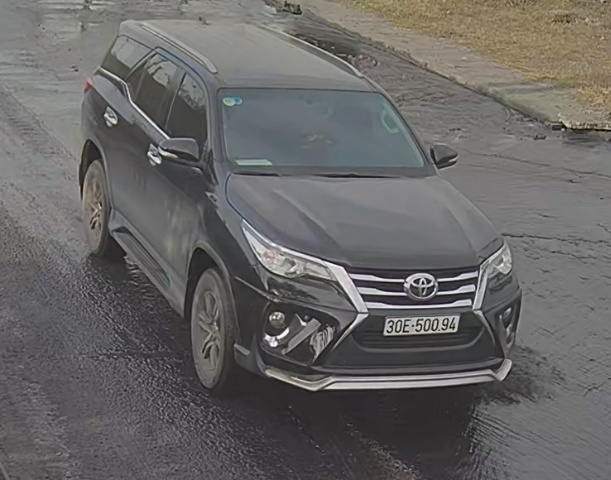vehicle plate: (384, 312, 459, 337)
